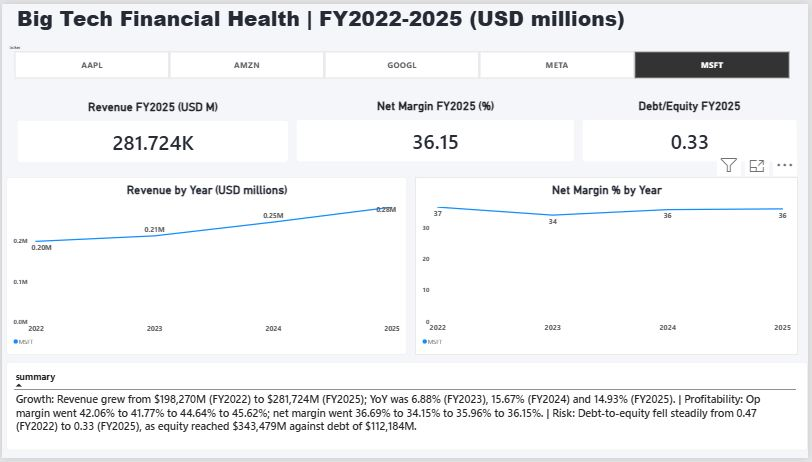

This screenshot's page, from the dashboard's own definition file:
{"tool":"powerbi","page":{"name":"Page 1","canvas":[1920,1080],"ordinal":0},"visuals":[{"type":"slicer","fields":{"Values":["summaries.ticker"]},"box":[10.6,97.8,1883.6,80.8],"z":0},{"type":"cardVisual","title":"Revenue FY2025 (USD M)","fields":{"Data":["final.Revenue Latest"]},"box":[36.1,227.5,646.3,148.8],"z":1000},{"type":"cardVisual","title":"Net Margin FY2025 (%)","fields":{"Data":["final.Net Margin Latest"]},"box":[699.4,225.4,663.3,150.9],"z":2000},{"type":"cardVisual","title":"Debt/Equity FY2025","fields":{"Data":["final.DE Latest"]},"box":[1381.9,225.4,512.4,150.9],"z":3000},{"type":"lineChart","title":"Revenue by Year (USD millions)","fields":{"Category":["final.Year"],"Series":["final.Ticker"],"Y":["Sum(final.Revenue)"]},"box":[10.6,412.4,954.6,423.1],"z":4000},{"type":"lineChart","title":"Net Margin % by Year","fields":{"Category":["final.Year"],"Series":["final.Ticker"],"Y":["Avg(final.net_margin)"]},"box":[982.2,412.4,912,423.1],"z":5000},{"type":"tableEx","fields":{"Values":["summaries.summary"]},"box":[10.6,852.5,1909.1,210.5],"z":6000},{"type":"textbox","box":[36.1,0,1788,82.9],"z":7000}]}

Visuals, with their boxes in screenshot pixels (x1, y1, x2, y2), scaled from the page's 1920x1080 canvas onto the 812x462 screenshot:
slicer - summaries.ticker: (x1=4, y1=42, x2=801, y2=76)
"Revenue FY2025 (USD M)" cardVisual: (x1=15, y1=97, x2=289, y2=161)
"Net Margin FY2025 (%)" cardVisual: (x1=296, y1=96, x2=576, y2=161)
"Debt/Equity FY2025" cardVisual: (x1=584, y1=96, x2=801, y2=161)
"Revenue by Year (USD millions)" lineChart: (x1=4, y1=176, x2=408, y2=357)
"Net Margin % by Year" lineChart: (x1=415, y1=176, x2=801, y2=357)
tableEx - summaries.summary: (x1=4, y1=365, x2=811, y2=455)
textbox: (x1=15, y1=0, x2=771, y2=35)
